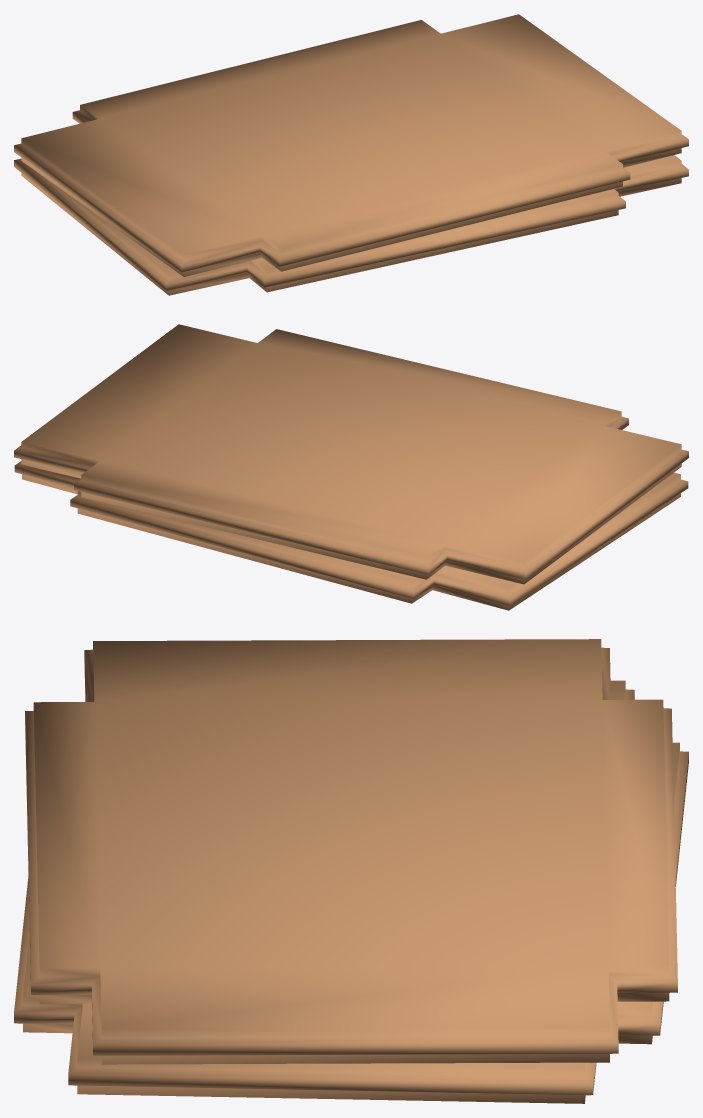
Rendered from CardboardFlat1.fbx.
3 renders of one model, top to bottom at view 1: azimuth 30°, elevation 25°; view 2: azimuth 150°, elevation 25°; view 3: azimuth 270°, elevation 25°, orthographic. The views are drawn at different scales.
Parts seen in each view (by area): view 1: CardboardStack1; view 2: CardboardStack1; view 3: CardboardStack1.
Part boxes in pixels (x1,y1,x2,y2): CardboardStack1: [14, 14, 688, 295]; CardboardStack1: [14, 324, 688, 610]; CardboardStack1: [14, 639, 688, 1103].
Bounding box in the file's own units: 169 × 13.9 × 119.
Materials: 1 (1 with a texture image).
